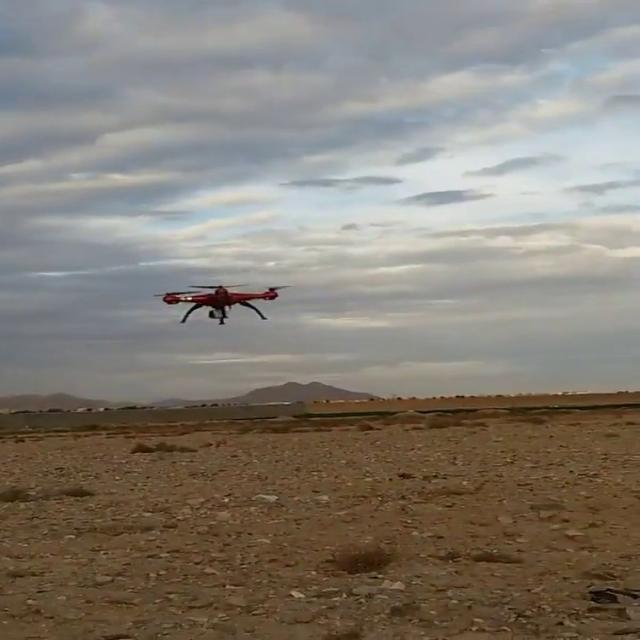drone: (150, 279, 294, 328)
